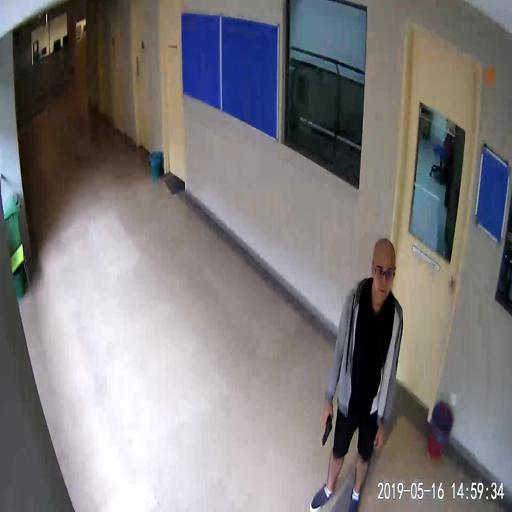pistol: (322, 411, 332, 445)
